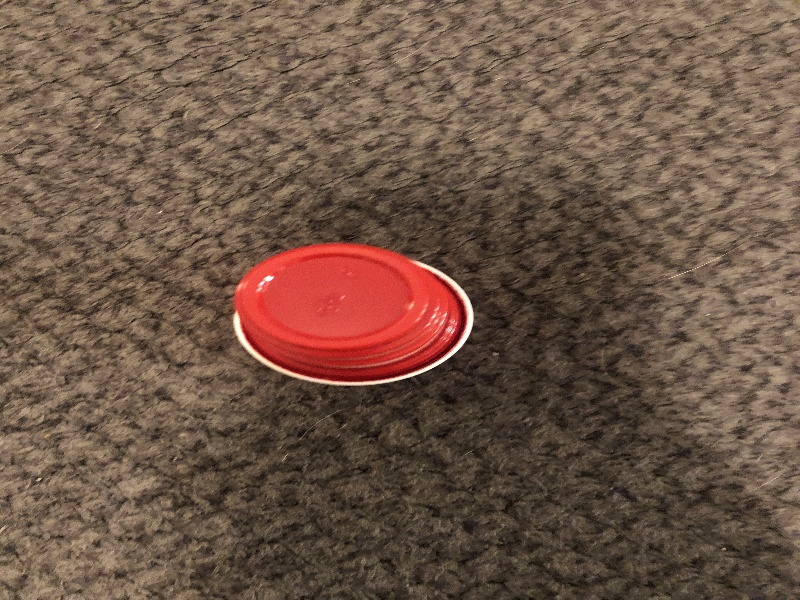plastic: (225, 242, 483, 391)
